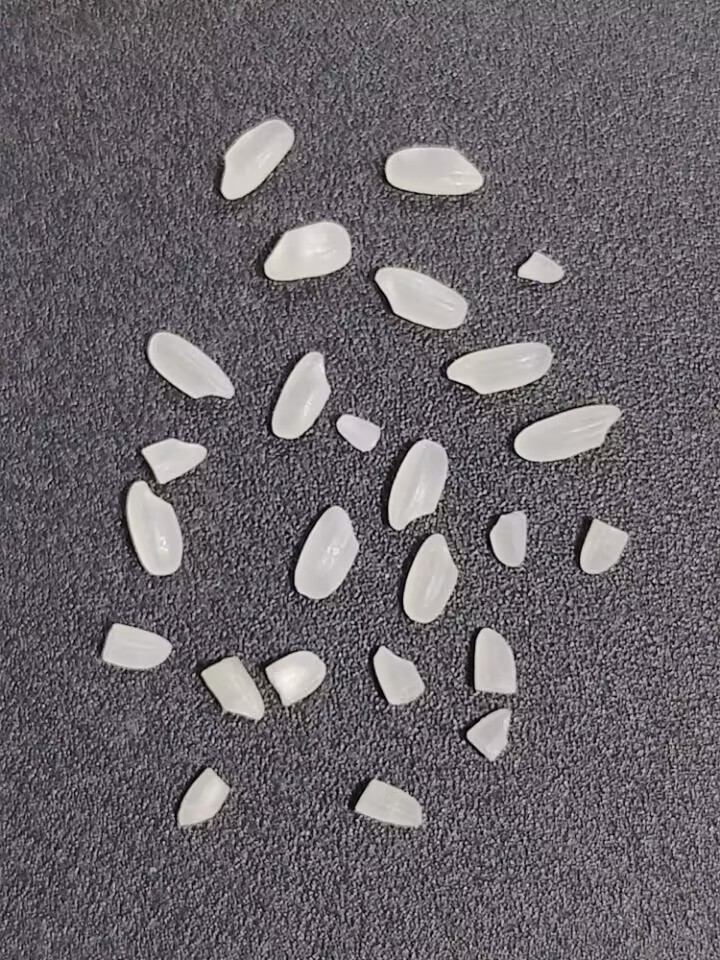broken: (198, 651, 269, 726), (344, 772, 428, 833), (100, 620, 182, 678), (174, 760, 233, 836), (370, 640, 428, 715), (136, 433, 211, 491), (260, 645, 327, 709), (467, 626, 521, 700), (458, 699, 518, 764), (485, 504, 537, 572), (579, 519, 629, 576), (515, 244, 574, 291), (335, 413, 380, 452)
rice: (120, 479, 192, 580), (290, 503, 362, 602), (384, 435, 453, 534), (514, 403, 623, 463), (267, 347, 335, 442), (395, 532, 463, 625), (379, 141, 485, 200), (219, 118, 295, 199), (374, 265, 468, 330), (147, 331, 236, 399), (445, 341, 553, 396), (263, 220, 352, 282)
